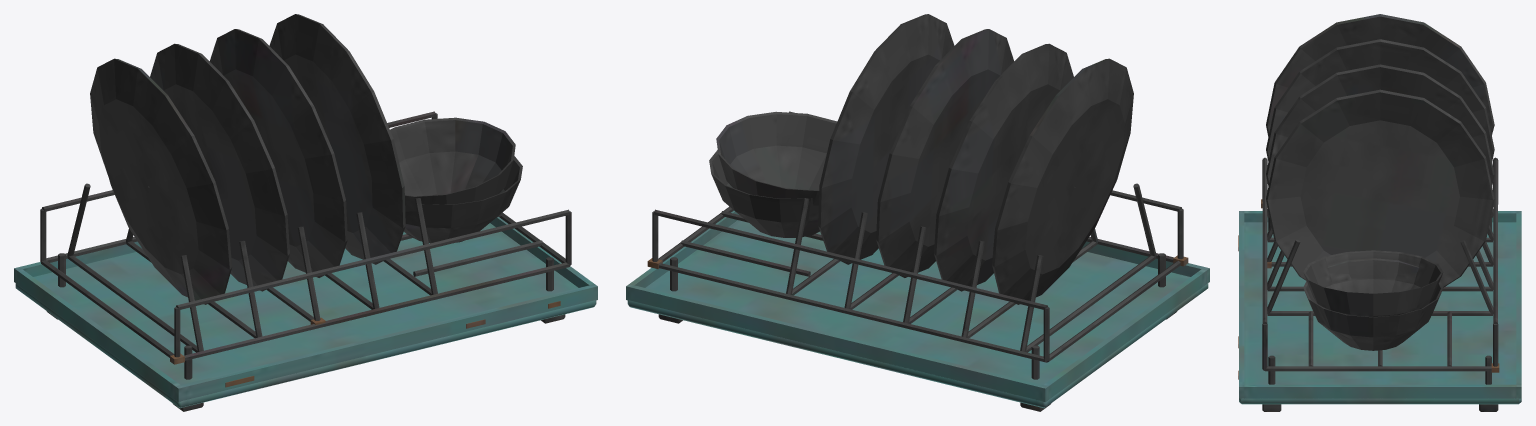
File: K12_dish_rack_with_plates.glb
3 renders of one model, left to right at view 1: azimuth 30°, elevation 25°; view 2: azimuth 150°, elevation 25°; view 3: azimuth 270°, elevation 25°, orthographic. The views are drawn at different scales.
Visible parts, largest first — view 1: Chipped enamel drip pan; view 2: Chipped enamel drip pan; view 3: Chipped enamel drip pan.
Boxes of the visible parts, x1,y1,x2,y2 form: Chipped enamel drip pan: [14, 14, 597, 411]; Chipped enamel drip pan: [626, 14, 1209, 411]; Chipped enamel drip pan: [1238, 14, 1521, 411].
Bounding box in the file's own units: 0.5 × 0.3293 × 0.3403.
4 materials, 4 textured.
